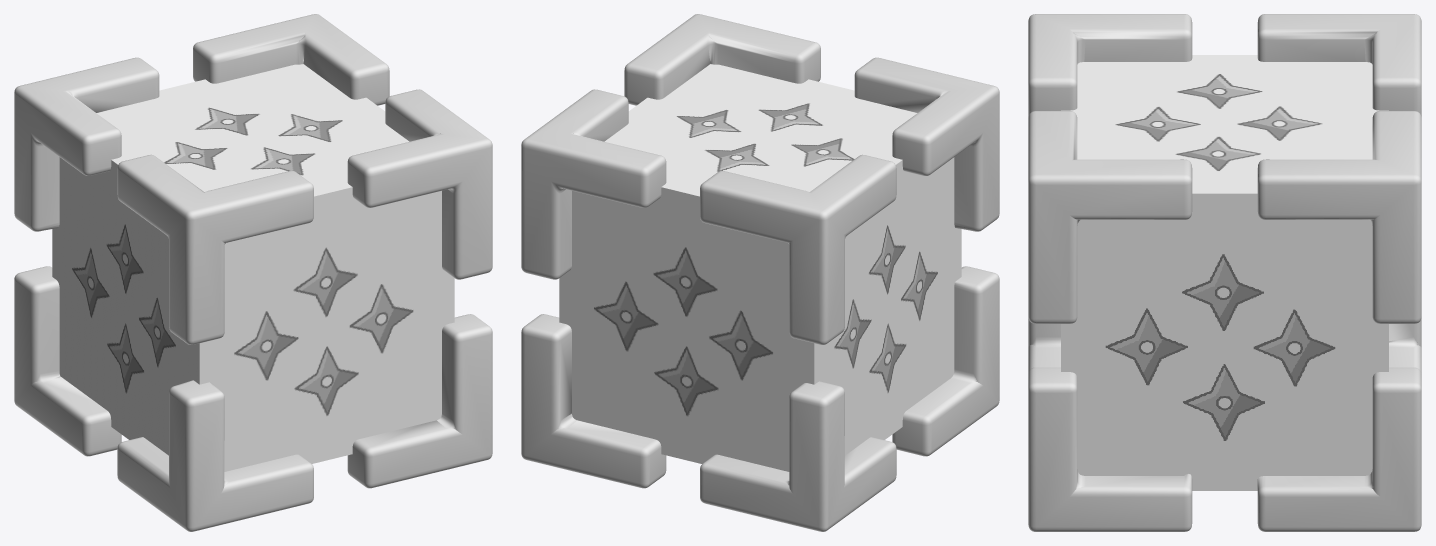
Rendered from ShurikenBox.FBX.
3 views of the same model, side by side, from view 1: azimuth 30°, elevation 25°; view 2: azimuth 150°, elevation 25°; view 3: azimuth 270°, elevation 25° (orthographic). The views are drawn at different scales.
Parts seen in each view (by area): view 1: MainBox, Corner005, Corner008, Corner001, Corner011, Corner007, Corner006, Corner010; view 2: MainBox, Corner011, Corner006, Corner010, Corner005, Corner002, Corner008, Corner001; view 3: MainBox, Corner010, Corner001, Corner007, Corner002, Corner011, Corner005, Corner006, Corner008.
Part boxes in pixels (left/top/right/bottom): MainBox: left=52, top=64, right=454, bottom=471; Corner005: left=117, top=154, right=313, bottom=344; Corner008: left=117, top=380, right=313, bottom=531; Corner001: left=347, top=89, right=492, bottom=279; Corner011: left=14, top=57, right=159, bottom=231; Corner007: left=347, top=314, right=492, bottom=488; Corner006: left=14, top=266, right=121, bottom=456; Corner010: left=193, top=14, right=389, bottom=105; MainBox: left=559, top=64, right=961, bottom=471; Corner011: left=700, top=154, right=896, bottom=344; Corner006: left=700, top=381, right=896, bottom=531; Corner010: left=521, top=89, right=666, bottom=279; Corner005: left=854, top=57, right=999, bottom=231; Corner002: left=521, top=314, right=666, bottom=488; Corner008: left=892, top=266, right=999, bottom=456; Corner001: left=624, top=14, right=820, bottom=105; MainBox: left=1061, top=55, right=1388, bottom=490; Corner010: left=1257, top=111, right=1421, bottom=323; Corner001: left=1028, top=111, right=1192, bottom=323; Corner007: left=1028, top=367, right=1192, bottom=531; Corner002: left=1257, top=367, right=1421, bottom=531; Corner011: left=1257, top=14, right=1421, bottom=117; Corner005: left=1028, top=14, right=1192, bottom=117; Corner006: left=1389, top=317, right=1421, bottom=373; Corner008: left=1028, top=317, right=1060, bottom=373.
Bounding box in the file's own units: 120 × 120 × 120.
1 material, 1 textured.
